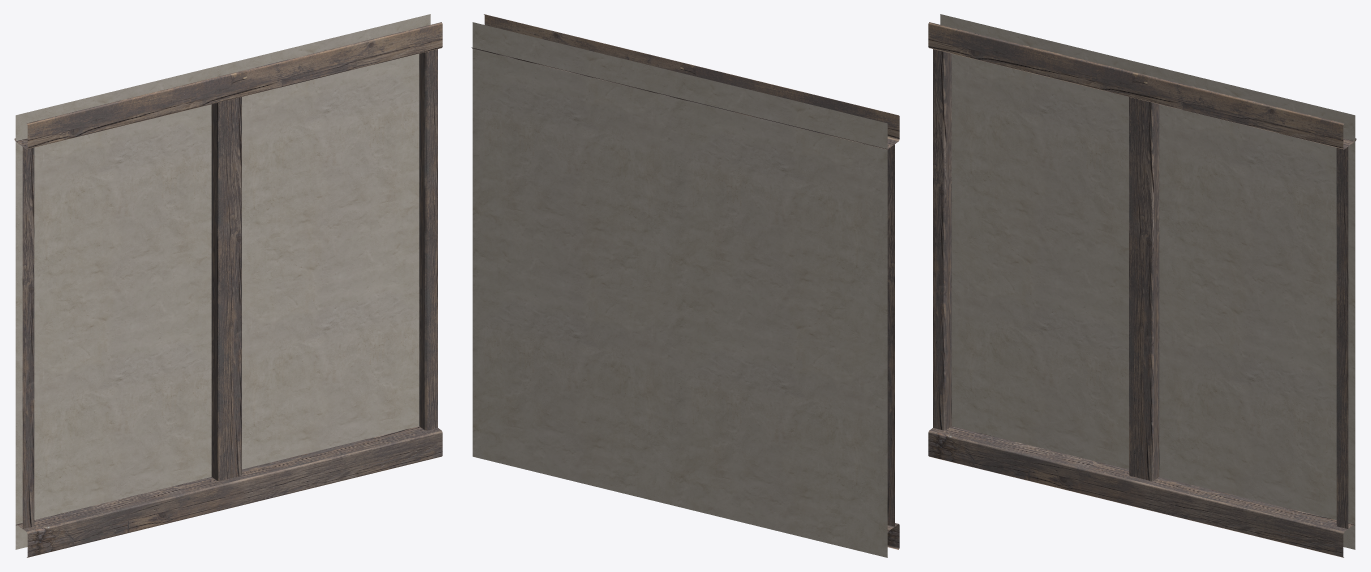
The model's file is IntWall02b.FBX.
3 renders of one model, left to right at view 1: azimuth 30°, elevation 25°; view 2: azimuth 150°, elevation 25°; view 3: azimuth 330°, elevation 25°, orthographic.
Visible parts, largest first — view 1: IntWall02b; view 2: IntWall02b; view 3: IntWall02b.
Boxes of the visible parts, x1,y1,x2,y2 form: IntWall02b: (14,14,442,557); IntWall02b: (471,14,899,557); IntWall02b: (928,14,1356,557).
Bounding box in the file's own units: 98.43 × 5.48 × 98.43.
